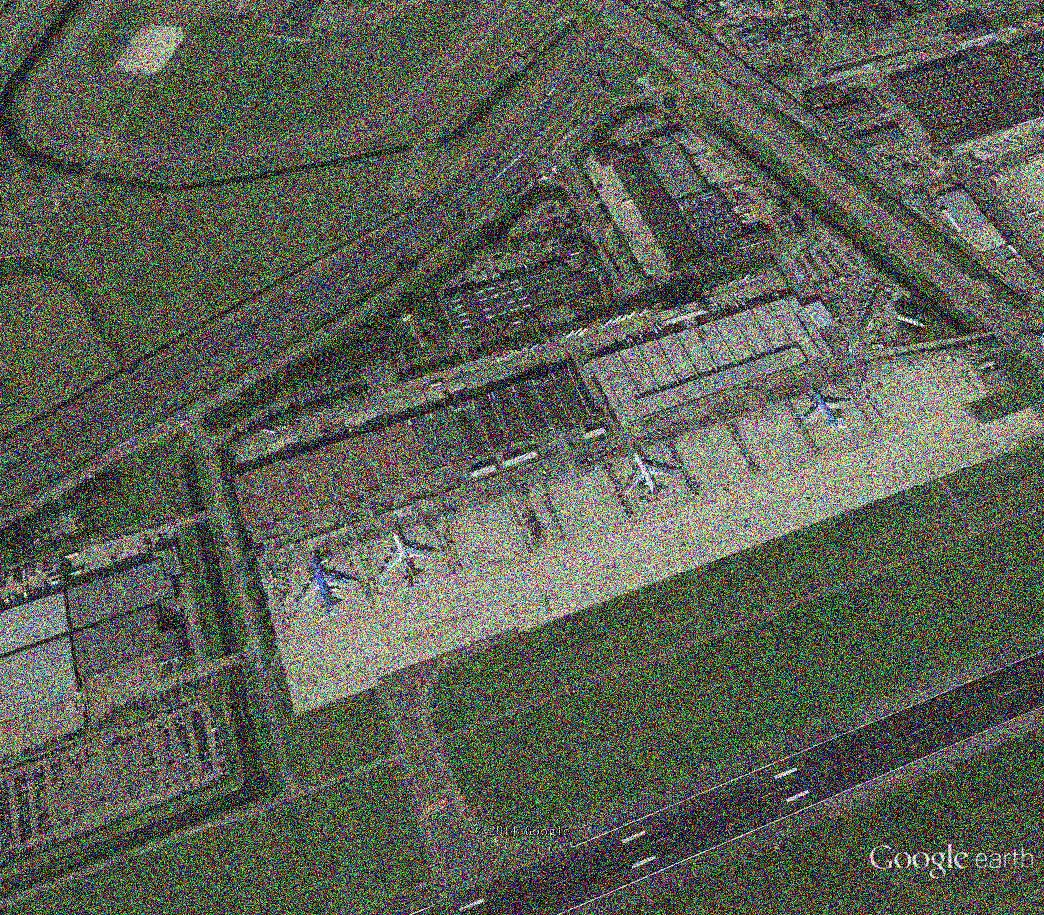aircraft: (291, 552, 361, 628), (373, 528, 445, 594), (619, 442, 682, 513), (801, 385, 855, 441)
